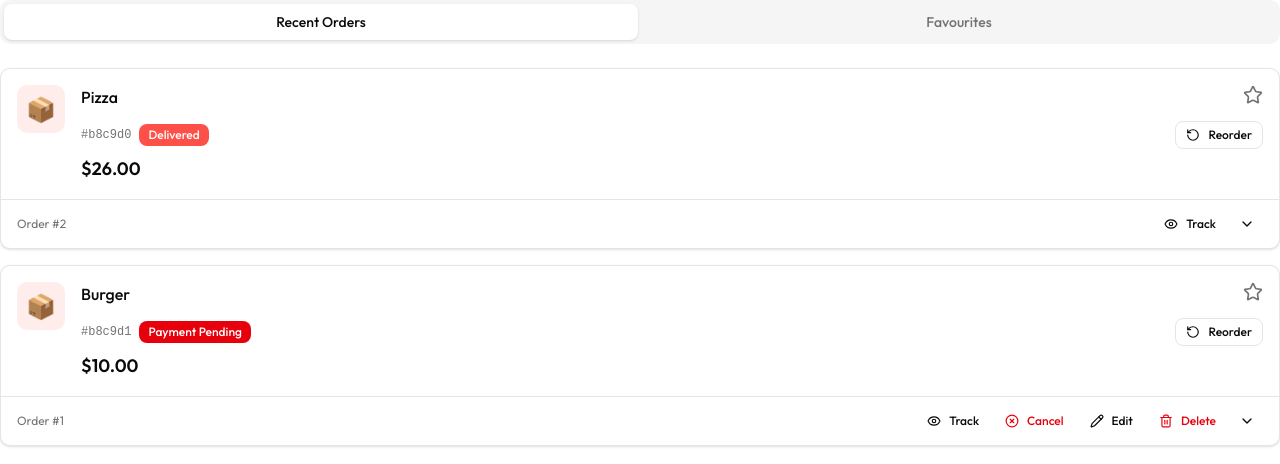
OrderList › shows favourites empty state on favourites tab
Click the button "Favourites".
click(959, 22)  # box left=642, top=4, right=1276, bottom=40
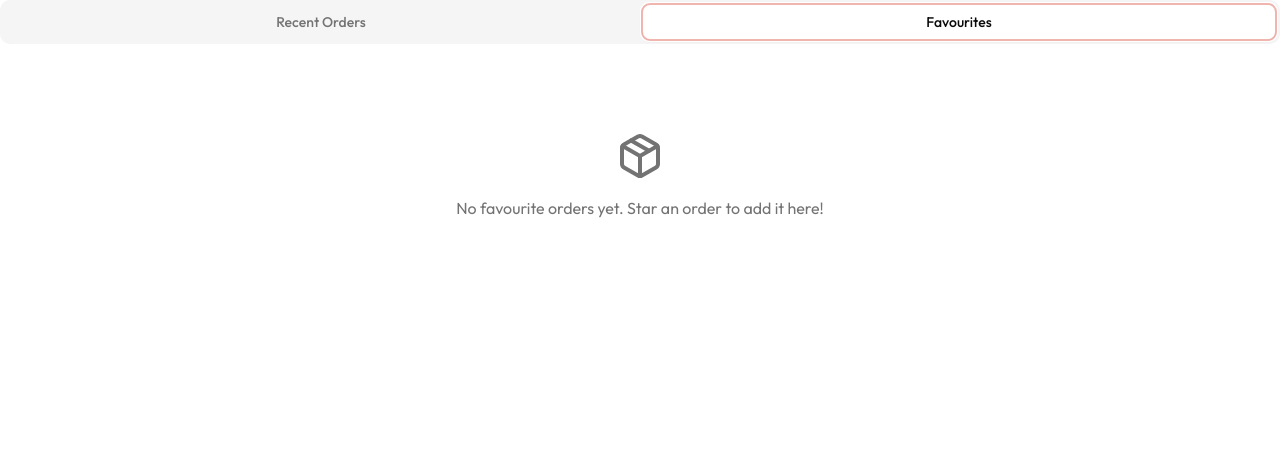
Now the text "No favourite orders yet. Star an order to add it here!" is shown, box left=456, top=196, right=824, bottom=220
